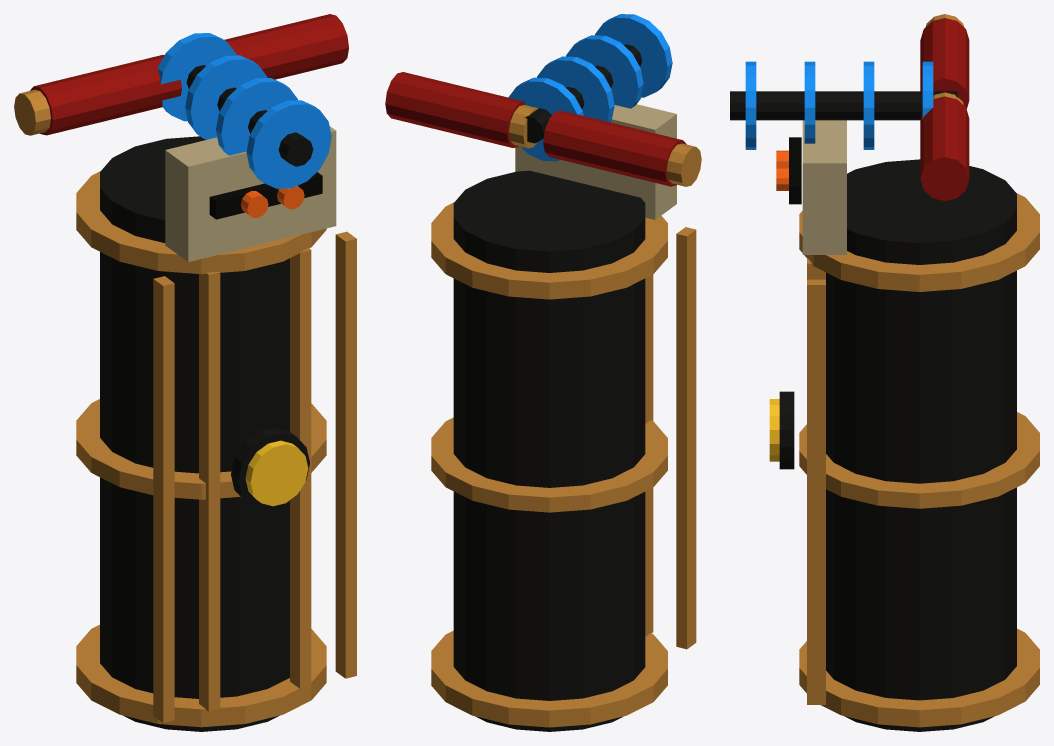
Rendered from ENEMY_V0134_Warden_ReadabilityOverlay.obj.
3 views of the same model, side by side, from view 1: azimuth 30°, elevation 25°; view 2: azimuth 150°, elevation 25°; view 3: azimuth 270°, elevation 25° (orthographic). The views are drawn at different scales.
Visible parts, largest first — view 1: warden_tall_governor_tower_silhouette_core, warden_command_cream_face_plate, warden_vertical_cage_rib_x_-0.24, warden_vertical_cage_rib_x_0.24, warden_vertical_cage_rib_x_-0.12, warden_vertical_cage_rib_x_0.12, warden_lower_brass_cage_ring, warden_upper_brass_cage_ring, warden_left_crown_pressure_red_pressure_vessel, warden_mid_brass_cage_ring, warden_right_crown_pressure_red_pressure_vessel, warden_overhead_cyan_command_coil_z_0.38 (+9 smaller); view 2: warden_tall_governor_tower_silhouette_core, warden_vertical_cage_rib_x_-0.24, warden_lower_brass_cage_ring, warden_upper_brass_cage_ring, warden_mid_brass_cage_ring, warden_left_crown_pressure_red_pressure_vessel, warden_right_crown_pressure_red_pressure_vessel, warden_command_cream_face_plate, warden_overhead_cyan_command_coil_z_0.38, warden_overhead_cyan_command_coil_z_0.24, warden_vertical_cage_rib_x_-0.12, warden_overhead_cyan_command_coil_z_0.10 (+4 smaller); view 3: warden_tall_governor_tower_silhouette_core, warden_vertical_cage_rib_x_0.24, warden_lower_brass_cage_ring, warden_upper_brass_cage_ring, warden_mid_brass_cage_ring, warden_command_cream_face_plate, warden_overhead_black_bolt_spine, warden_right_crown_pressure_red_pressure_vessel, warden_left_crown_pressure_red_pressure_vessel, warden_central_command_weak_point_on_tower_black_ring, warden_overhead_cyan_command_coil_z_0.10, warden_overhead_cyan_command_coil_z_0.38 (+4 smaller).
Boxes of the visible parts, x1,y1,x2,y2 form: warden_tall_governor_tower_silhouette_core: (100, 136, 289, 731); warden_command_cream_face_plate: (165, 126, 336, 262); warden_vertical_cage_rib_x_-0.24: (153, 276, 174, 722); warden_vertical_cage_rib_x_0.24: (335, 231, 356, 678); warden_vertical_cage_rib_x_-0.12: (199, 272, 220, 711); warden_vertical_cage_rib_x_0.12: (290, 248, 311, 689); warden_lower_brass_cage_ring: (76, 624, 326, 727); warden_upper_brass_cage_ring: (76, 171, 326, 274); warden_left_crown_pressure_red_pressure_vessel: (30, 55, 181, 135); warden_mid_brass_cage_ring: (76, 399, 326, 499); warden_right_crown_pressure_red_pressure_vessel: (224, 14, 348, 79); warden_overhead_cyan_command_coil_z_0.38: (246, 100, 331, 188); warden_tall_governor_tower_silhouette_core: (453, 170, 645, 731); warden_vertical_cage_rib_x_-0.24: (676, 227, 696, 649); warden_lower_brass_cage_ring: (431, 630, 667, 727); warden_upper_brass_cage_ring: (431, 202, 667, 299); warden_mid_brass_cage_ring: (431, 417, 667, 512); warden_left_crown_pressure_red_pressure_vessel: (543, 110, 686, 186); warden_right_crown_pressure_red_pressure_vessel: (385, 72, 524, 147); warden_command_cream_face_plate: (515, 104, 676, 219); warden_overhead_cyan_command_coil_z_0.38: (595, 14, 672, 97); warden_overhead_cyan_command_coil_z_0.24: (566, 35, 643, 108); warden_vertical_cage_rib_x_-0.12: (645, 274, 653, 636); warden_overhead_cyan_command_coil_z_0.10: (537, 56, 614, 122); warden_tall_governor_tower_silhouette_core: (826, 159, 1016, 731); warden_vertical_cage_rib_x_0.24: (807, 279, 825, 704); warden_lower_brass_cage_ring: (799, 628, 1039, 727); warden_upper_brass_cage_ring: (799, 193, 1039, 291); warden_mid_brass_cage_ring: (799, 412, 1039, 508); warden_command_cream_face_plate: (802, 120, 846, 254); warden_overhead_black_bolt_spine: (730, 91, 957, 120); warden_right_crown_pressure_red_pressure_vessel: (920, 96, 969, 200); warden_left_crown_pressure_red_pressure_vessel: (920, 18, 969, 108); warden_central_command_weak_point_on_tower_black_ring: (779, 391, 794, 469); warden_overhead_cyan_command_coil_z_0.10: (863, 61, 874, 149); warden_overhead_cyan_command_coil_z_0.38: (745, 61, 756, 149).
Size of the model in its own units: 0.82 by 1.63 by 0.7356.
